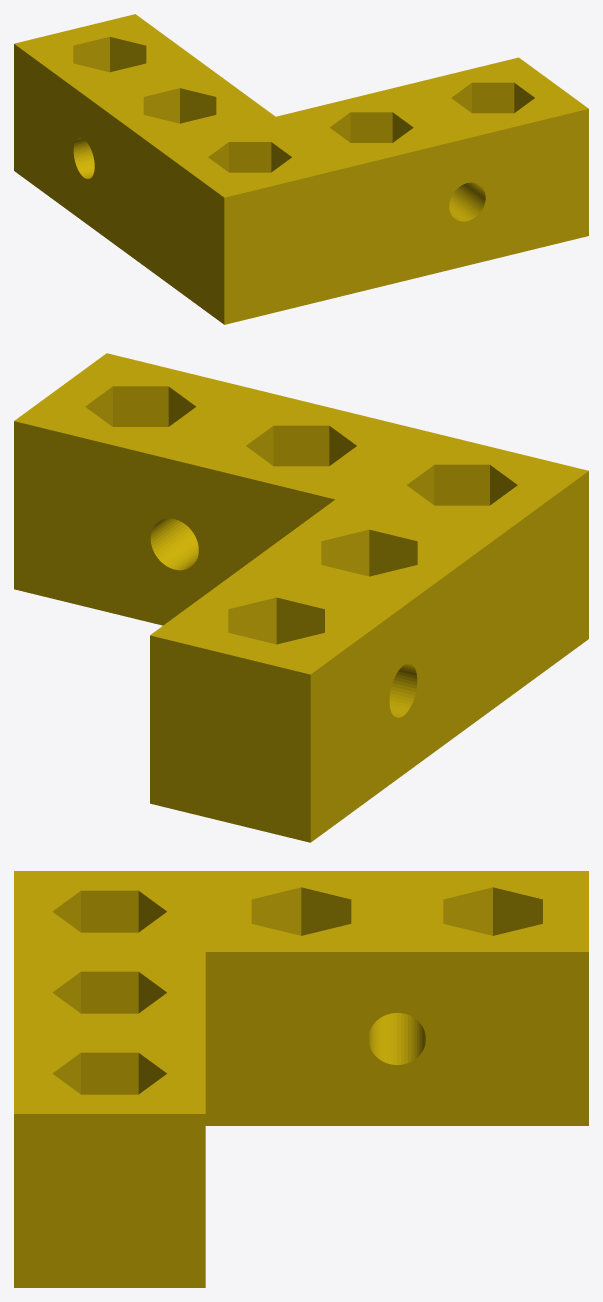
Rendered from L_Piece_5_hole_2_side_hole).glb.
The picture shows the model from 3 angles, top to bottom: view 1: azimuth 30°, elevation 25°; view 2: azimuth 150°, elevation 25°; view 3: azimuth 270°, elevation 25°; orthographic projection. The views are drawn at different scales.
Parts seen in each view (by area): view 1: main.004; view 2: main.004; view 3: main.004.
Boxes of the visible parts, <box> form: main.004: <box>14,14,588,324</box>; main.004: <box>14,353,588,842</box>; main.004: <box>14,871,588,1287</box>.
Size of the model in its own units: 0.03 by 0.01 by 0.03.
